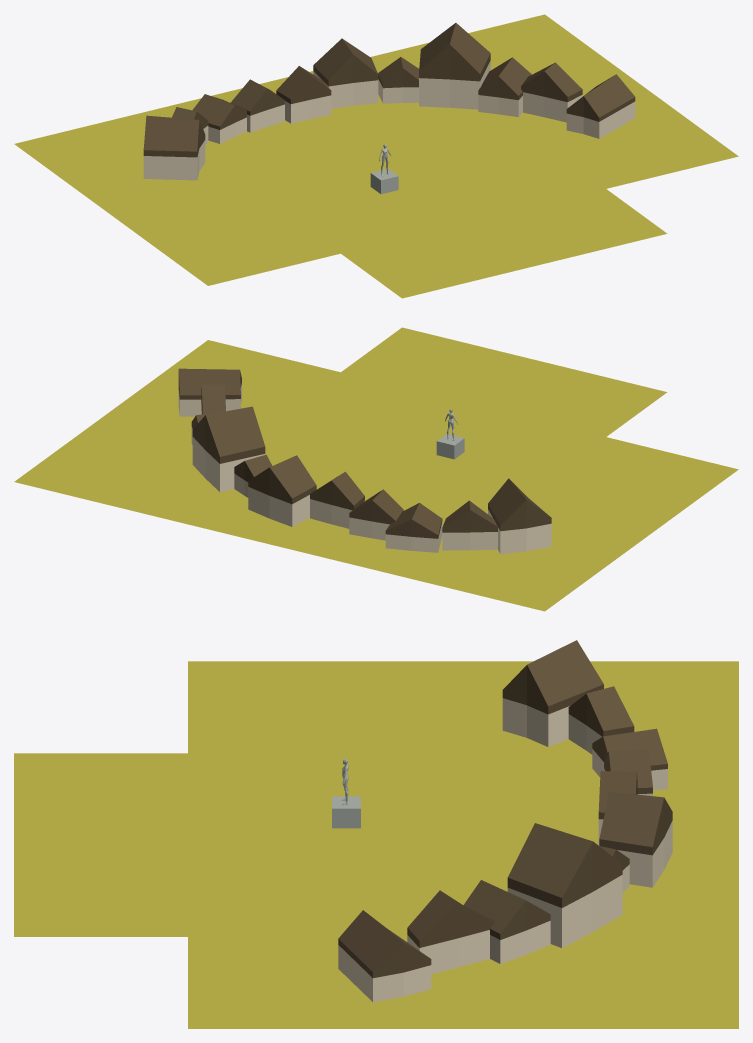
File: medieval town.glb
3 views of the same model, one above another, from view 1: azimuth 30°, elevation 25°; view 2: azimuth 150°, elevation 25°; view 3: azimuth 270°, elevation 25° (orthographic). The views are drawn at different scales.
Visible parts, largest first — view 1: ground, house.008, house.001, house.006, house.011, house.010, house.005, house.009, house.004, house.003, house.007, base; view 2: ground, house.008, house.006, house.001, house.002, house.011, house.003, house.005, house.004, house.007, house.010, base; view 3: ground, house.008, house.001, house.011, house.006, house.010, house.009, house.002, house.003, house.004, house.005, base.
Boxes of the visible parts, box(x1,y1,x2,y2) form: ground: box(14, 14, 738, 298); house.008: box(419, 23, 490, 109); house.001: box(143, 115, 205, 180); house.006: box(313, 38, 378, 108); house.011: box(566, 74, 635, 138); house.010: box(521, 62, 582, 122); house.005: box(276, 66, 331, 123); house.009: box(478, 57, 531, 117); house.004: box(230, 79, 284, 132); house.003: box(192, 94, 246, 143); house.007: box(378, 57, 419, 103); base: box(370, 168, 398, 194); ground: box(14, 327, 738, 611); house.008: box(192, 406, 265, 492); house.006: box(248, 455, 316, 526); house.001: box(488, 478, 551, 554); house.002: box(442, 500, 497, 550); house.011: box(178, 368, 241, 416); house.003: box(385, 503, 442, 552); house.005: box(310, 471, 364, 528); house.004: box(349, 489, 403, 540); house.007: box(234, 454, 272, 497); house.010: box(201, 384, 225, 414); base: box(436, 434, 464, 459); ground: box(14, 661, 738, 1028); house.008: box(507, 823, 622, 947); house.001: box(502, 640, 603, 746); house.011: box(338, 910, 431, 1002); house.006: box(599, 791, 672, 887); house.010: box(407, 890, 494, 973); house.009: box(464, 880, 550, 963); house.002: box(568, 686, 634, 754); house.003: box(592, 728, 667, 790); house.004: box(604, 749, 652, 795); house.005: box(598, 771, 637, 845); base: box(332, 796, 360, 828).
Bounding box in the file's own units: 120 × 13.75 × 100.
1 material, 1 textured.
